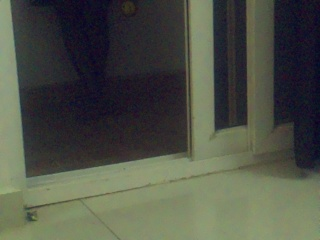ball: (122, 0, 135, 15)
